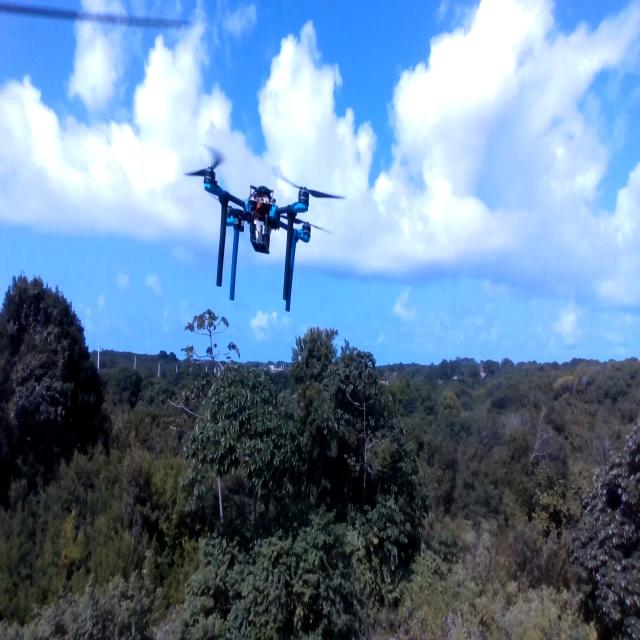-uav-: (174, 113, 352, 324)
